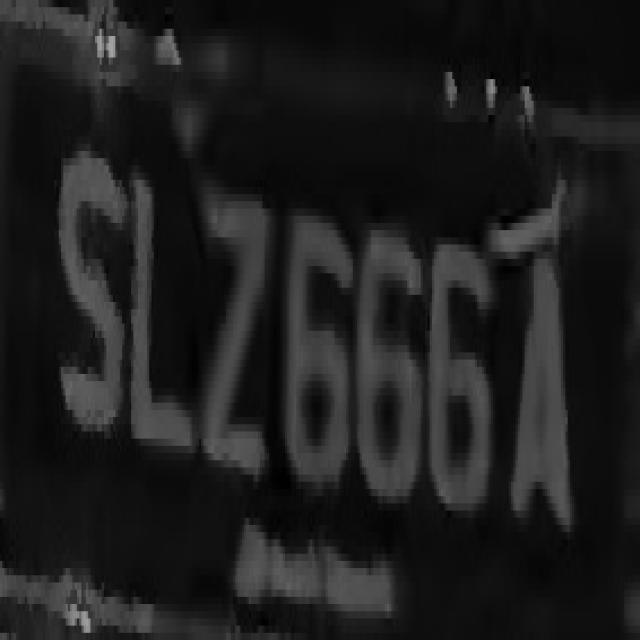6: (420, 180, 498, 532), (352, 187, 430, 532), (287, 180, 353, 496)
A: (504, 230, 582, 525)
L: (122, 122, 201, 489)
S: (45, 130, 129, 460)
Z: (188, 122, 276, 496)
